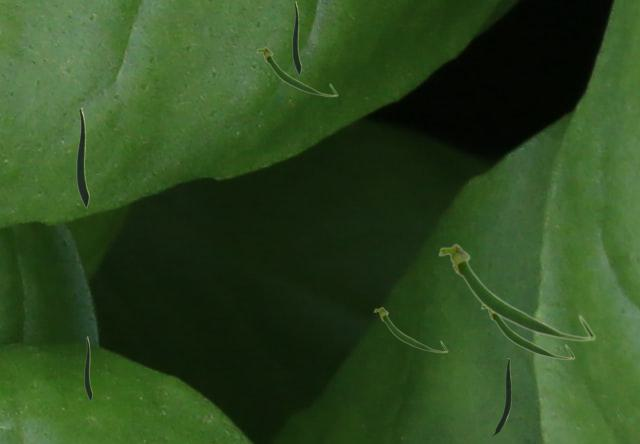french_bean: (437, 243, 595, 341), (480, 305, 574, 359), (256, 46, 337, 96), (373, 306, 447, 352), (491, 358, 510, 435), (76, 107, 88, 207), (292, 1, 300, 74), (84, 336, 91, 400)
